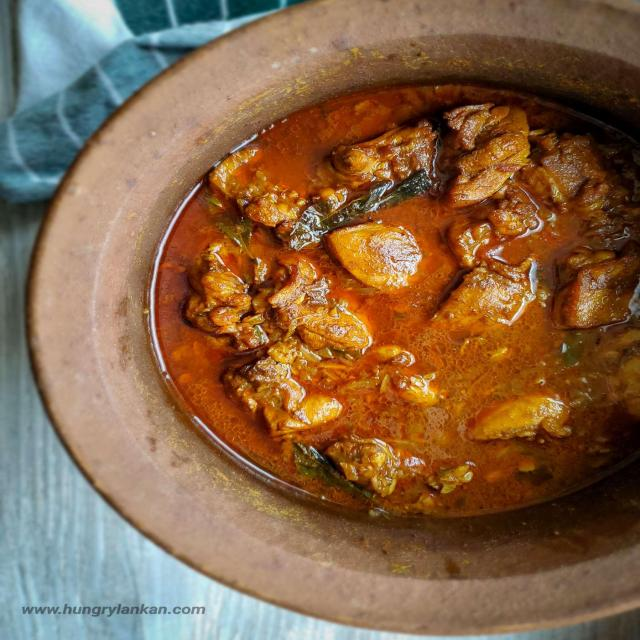chicken: (176, 107, 632, 518)
